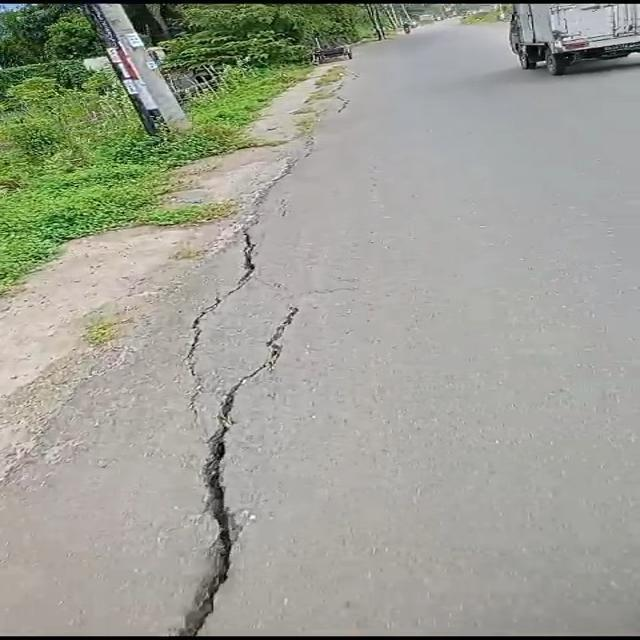Memanjang: (168, 301, 320, 640), (168, 227, 266, 399)
